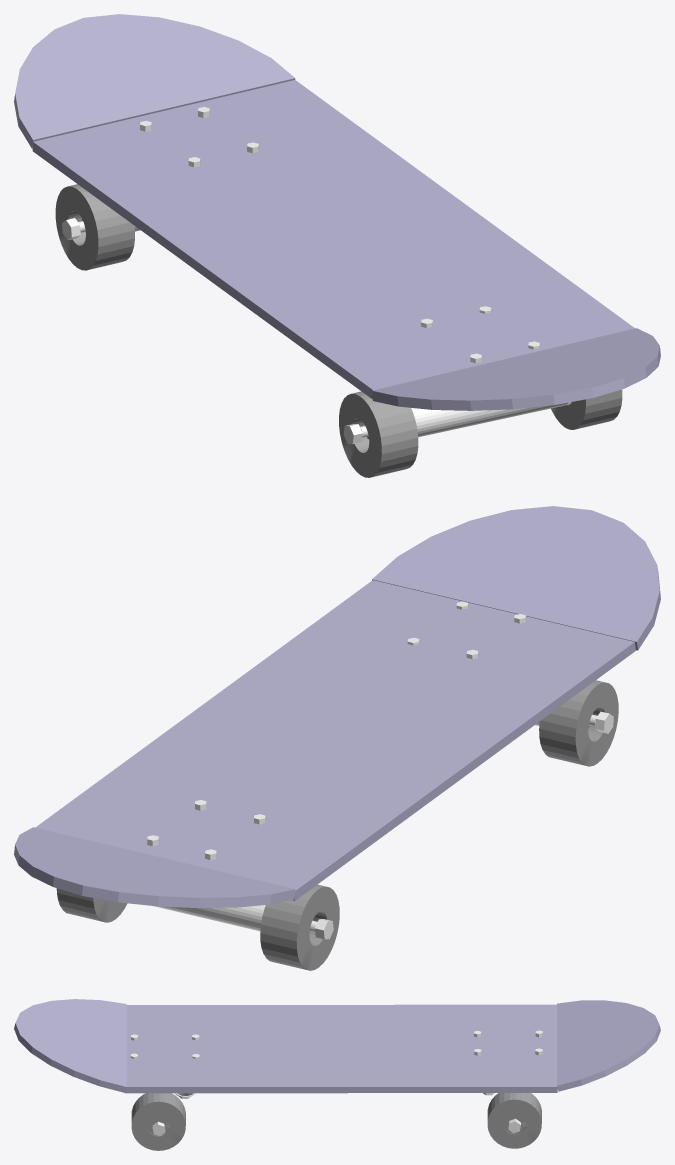
File: skateboard.glb
3 renders of one model, top to bottom at view 1: azimuth 30°, elevation 25°; view 2: azimuth 150°, elevation 25°; view 3: azimuth 270°, elevation 25°, orthographic. The views are drawn at different scales.
Visible parts, largest first — view 1: 3DSMeshMatrix (×6); view 2: 3DSMeshMatrix (×6); view 3: 3DSMeshMatrix (×5).
Part boxes in pixels (box(x1,y1,x2,y2)): 3DSMeshMatrix (×6): box(14, 14, 660, 477); 3DSMeshMatrix (×6): box(14, 506, 660, 970); 3DSMeshMatrix (×5): box(14, 999, 660, 1150).
Size of the model in its own units: 470 by 243 by 1570.
